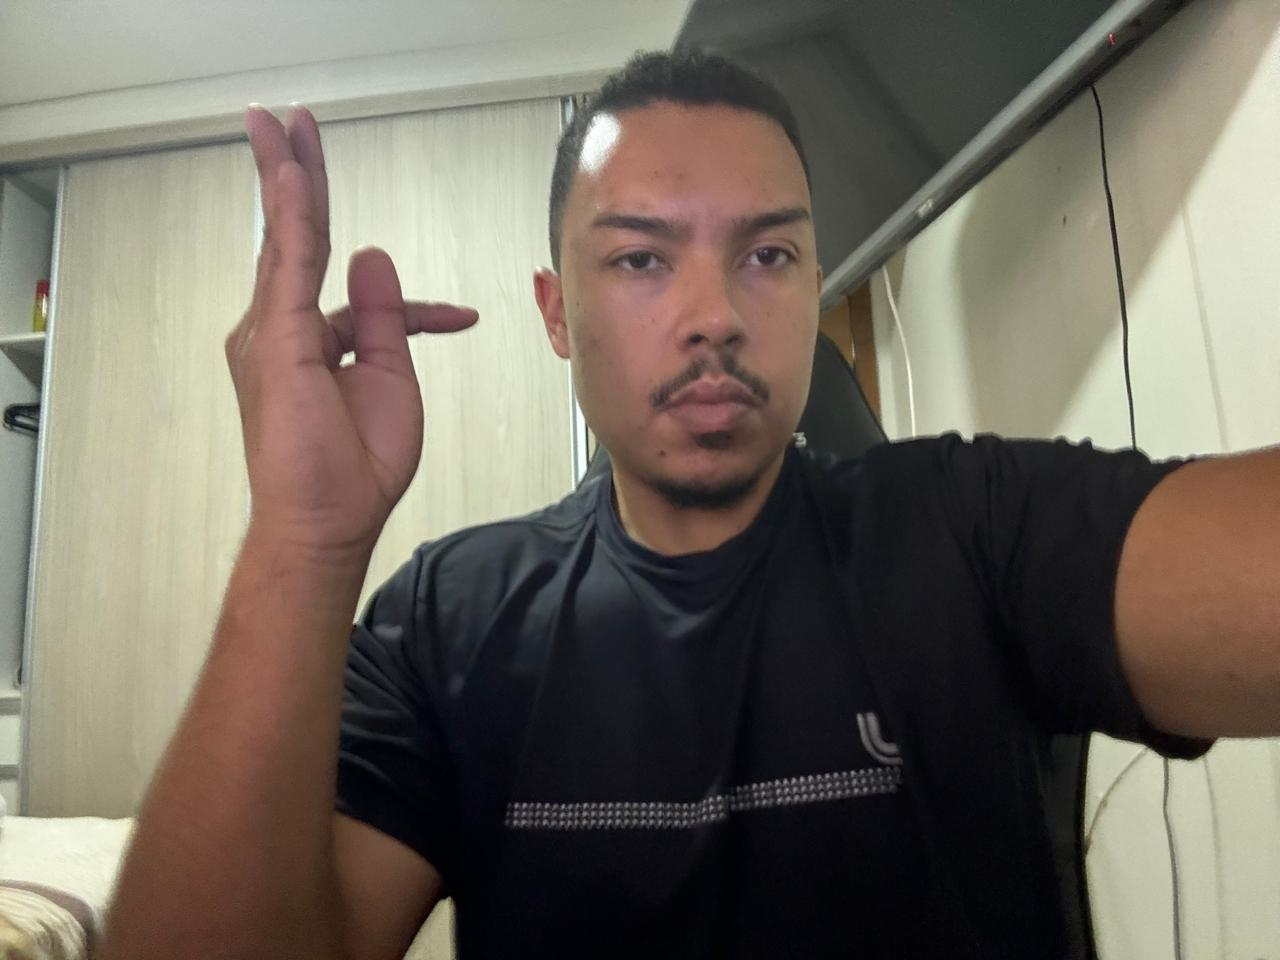t: (204, 87, 485, 557)
